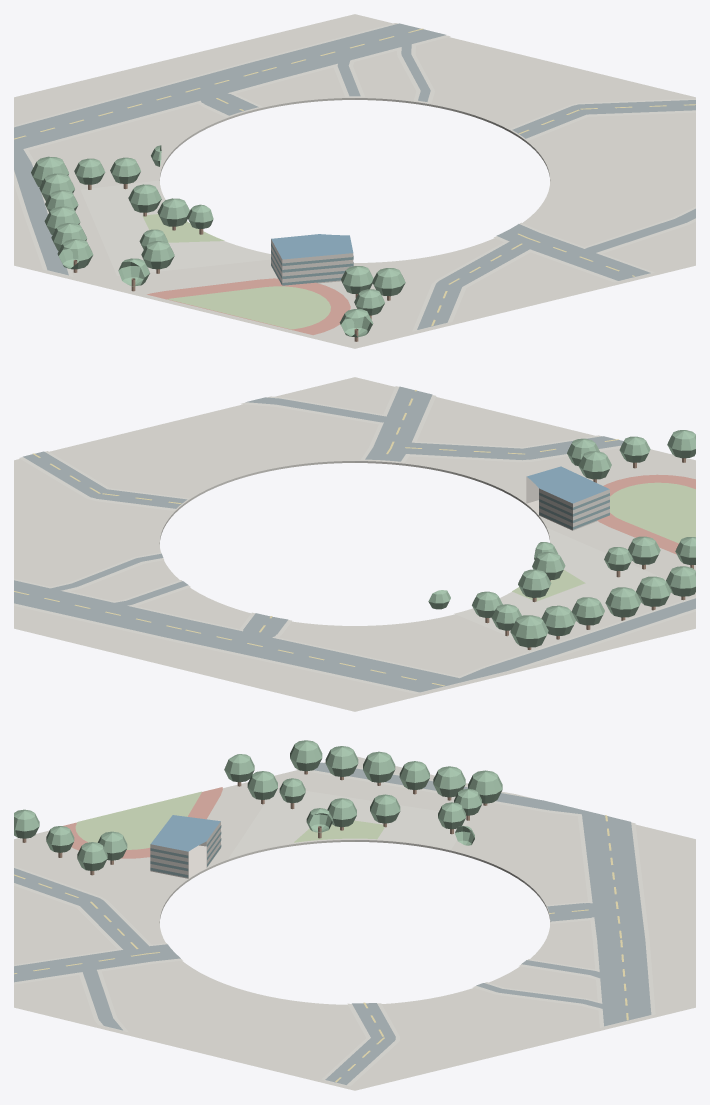
The model's file is surround-X1.glb.
3 views of the same model, one above another, from view 1: azimuth 30°, elevation 25°; view 2: azimuth 150°, elevation 25°; view 3: azimuth 270°, elevation 25° (orthographic).
Visible parts, largest first — view 1: X1_ground; view 2: X1_ground; view 3: X1_ground.
Boxes of the visible parts, <box> form: X1_ground: <box>14,14,695,348</box>; X1_ground: <box>14,377,695,711</box>; X1_ground: <box>14,740,695,1090</box>.
Bounding box in the file's own units: 16.16 × 0.8049 × 14.
Materials: 1 (1 with a texture image).
